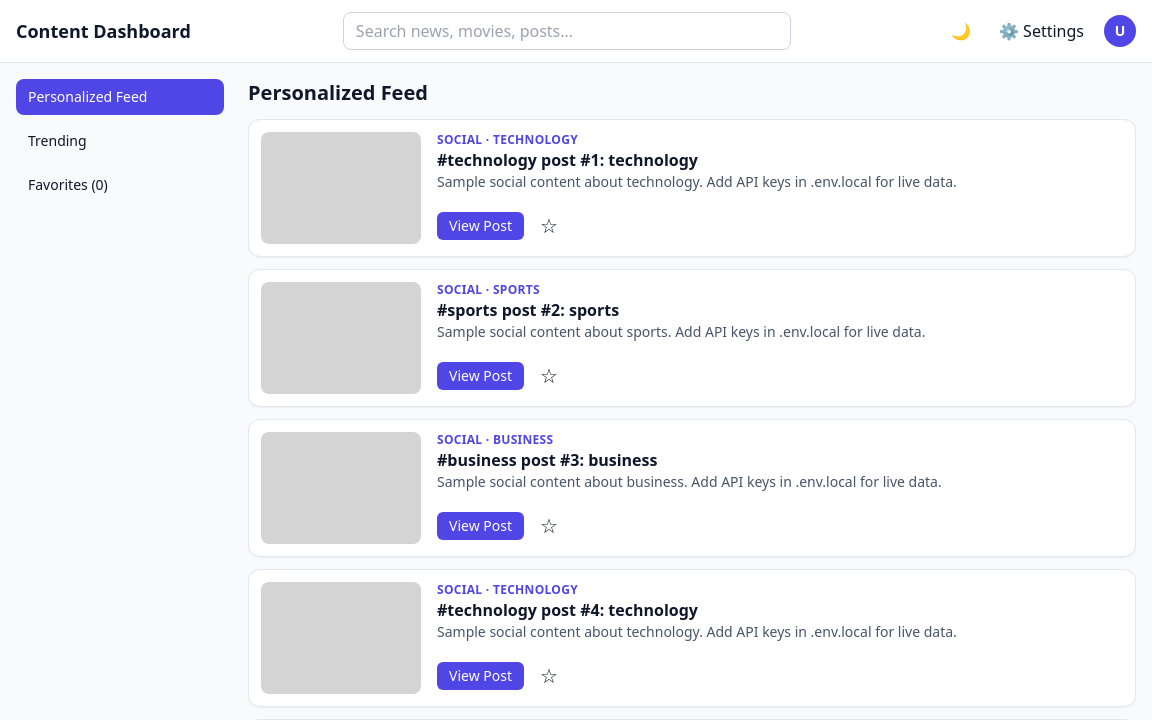
Scenario: dashboard › favorites a card and shows it under Favorites
Click the 1st button "☆" at coordinates (549, 226), box [532,208,566,244]
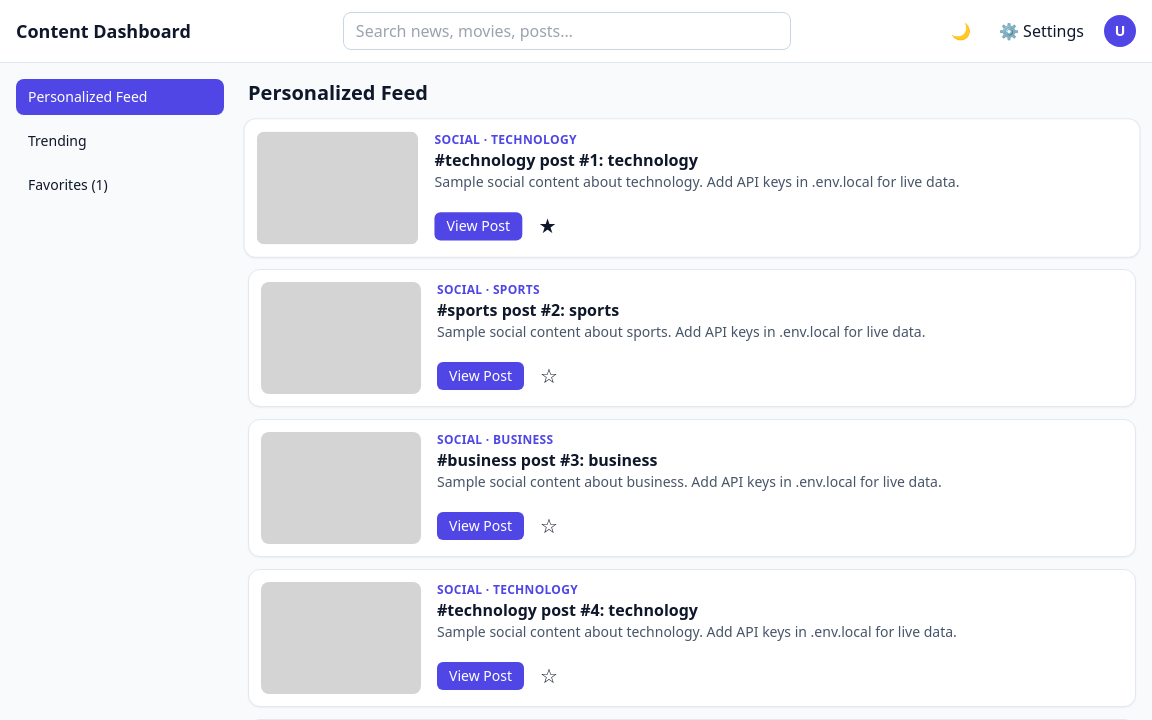
Click the button "Favorites (1)" at coordinates (120, 185), box [16,167,224,203]
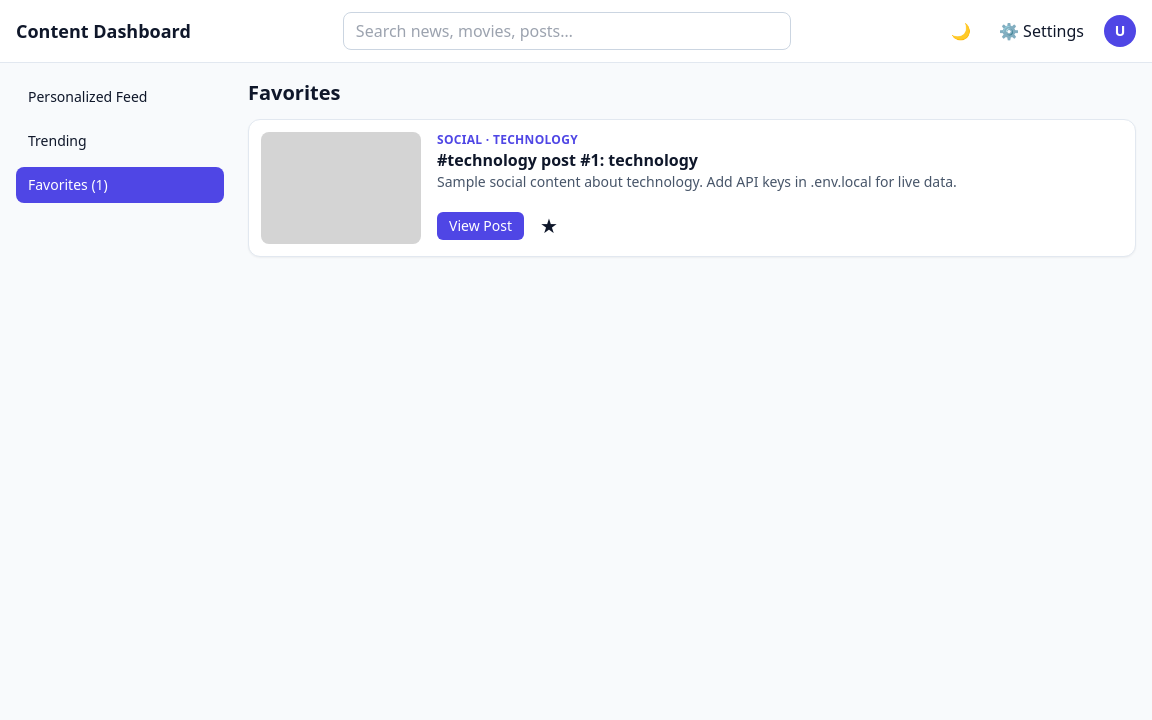
Check: the number of elements with test id "content-card" is 1, box [248,119,1136,257]
